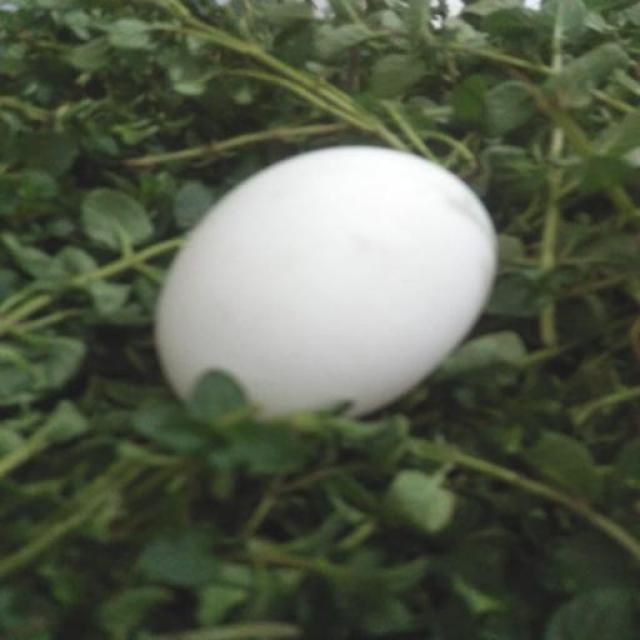telur: (155, 149, 496, 423)
